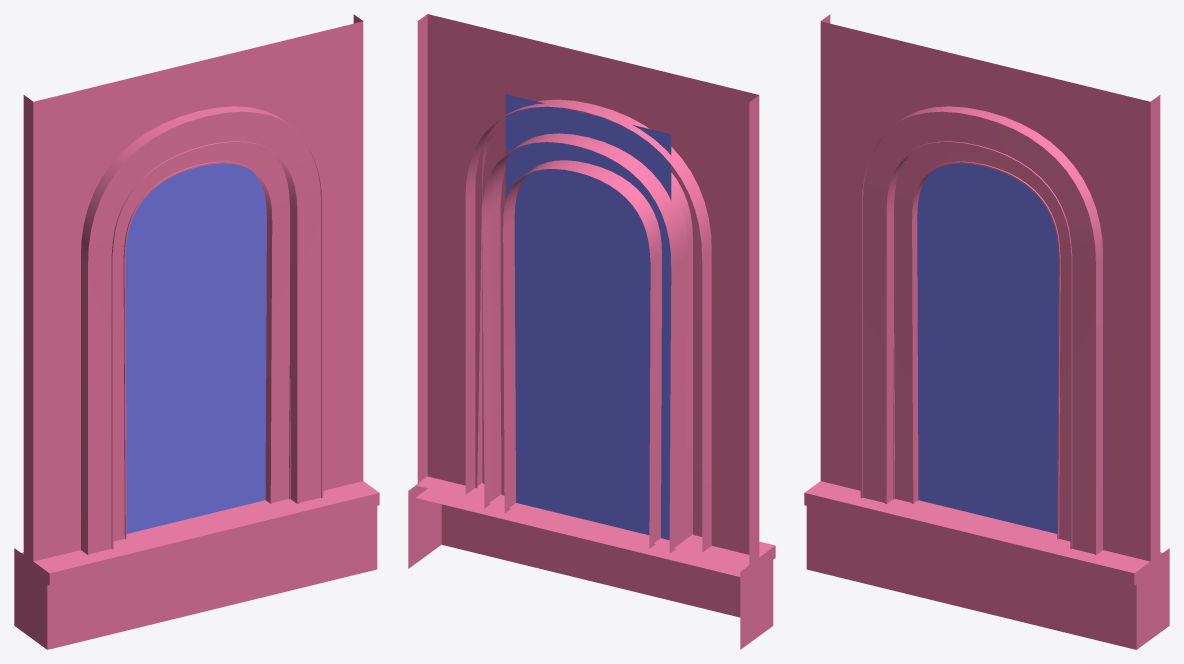
The model's file is SoulWall2.fbx.
The picture shows the model from 3 angles, left to right: view 1: azimuth 30°, elevation 25°; view 2: azimuth 150°, elevation 25°; view 3: azimuth 330°, elevation 25°; orthographic projection.
Parts seen in each view (by area): view 1: Object003; view 2: Object003; view 3: Object003.
Part boxes in pixels (x1,y1,x2,y2): Object003: [14, 14, 379, 649]; Object003: [408, 14, 775, 649]; Object003: [804, 14, 1169, 649].
Size of the model in its own units: 28.89 by 45 by 5.32.
